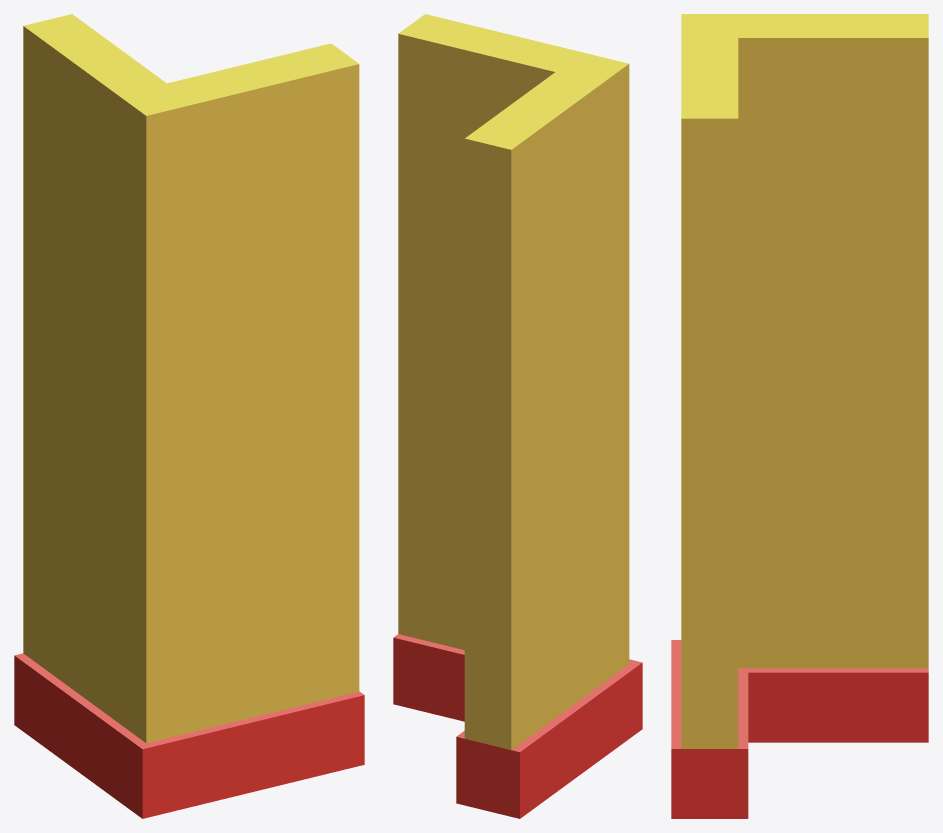
Rendered from Wall_Corner.fbx.
3 views of the same model, side by side, from view 1: azimuth 30°, elevation 25°; view 2: azimuth 150°, elevation 25°; view 3: azimuth 270°, elevation 25° (orthographic). The views are drawn at different scales.
Parts seen in each view (by area): view 1: Wall_Corner; view 2: Wall_Corner; view 3: Wall_Corner.
Part boxes in pixels (box(x1,y1,x2,y2)): Wall_Corner: box(14, 14, 364, 818); Wall_Corner: box(393, 14, 642, 818); Wall_Corner: box(671, 14, 928, 818).
Size of the model in its own units: 1 by 3 by 1.
